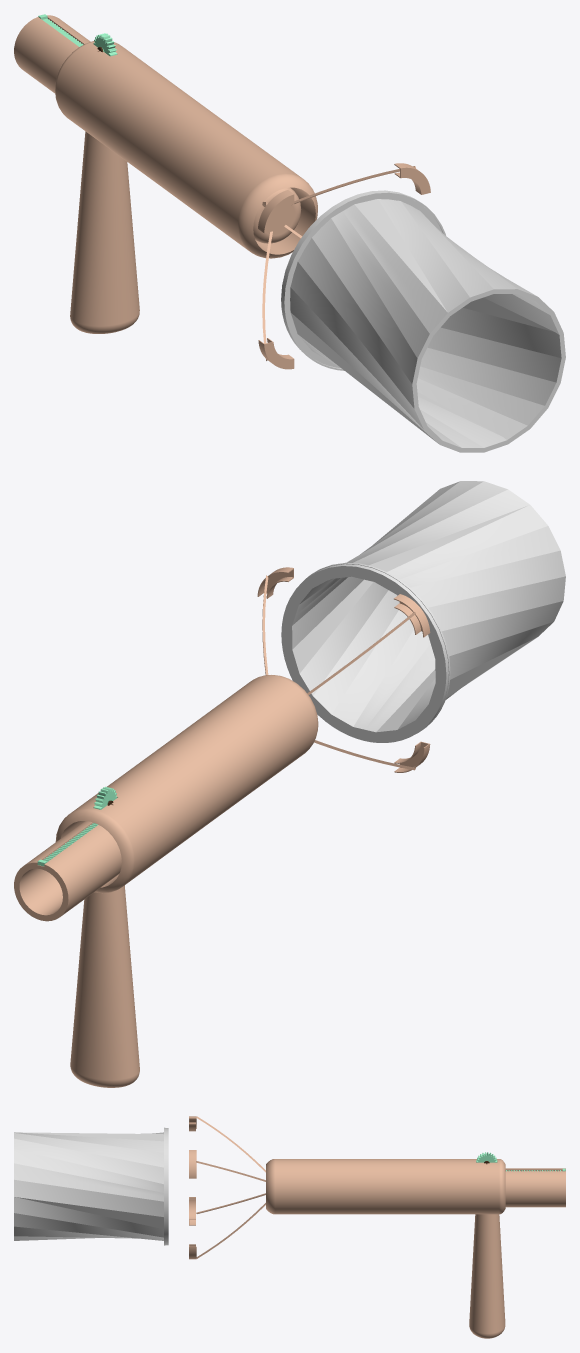
File: speculumfin.gltf
The picture shows the model from 3 angles, top to bottom: view 1: azimuth 30°, elevation 25°; view 2: azimuth 150°, elevation 25°; view 3: azimuth 270°, elevation 25°; orthographic projection. The views are drawn at different scales.
Visible parts, largest first — view 1: Body4.001, Body4, Body1.002, Main Body (1).002, Body77, Body81, Body75; view 2: Body4.001, Body4, Body1.002, Main Body (1).002; view 3: Body4.001, Body4, Body1.002, Main Body (1).002.
Boxes of the visible parts, <box> form: Body4.001: <box>281,190,565,452</box>; Body4: <box>55,41,317,258</box>; Body1.002: <box>70,131,139,333</box>; Main Body (1).002: <box>14,15,301,243</box>; Body77: <box>258,190,294,233</box>; Body81: <box>394,163,430,194</box>; Body75: <box>258,338,294,369</box>; Body4.001: <box>281,481,565,742</box>; Body4: <box>55,675,318,893</box>; Body1.002: <box>70,885,139,1087</box>; Main Body (1).002: <box>14,821,121,921</box>; Body4.001: <box>14,1127,168,1245</box>; Body4: <box>266,1159,505,1214</box>; Body1.002: <box>469,1214,505,1338</box>; Main Body (1).002: <box>505,1168,565,1207</box>.
Size of the model in its own units: 2.11 by 3.89 by 9.81.
